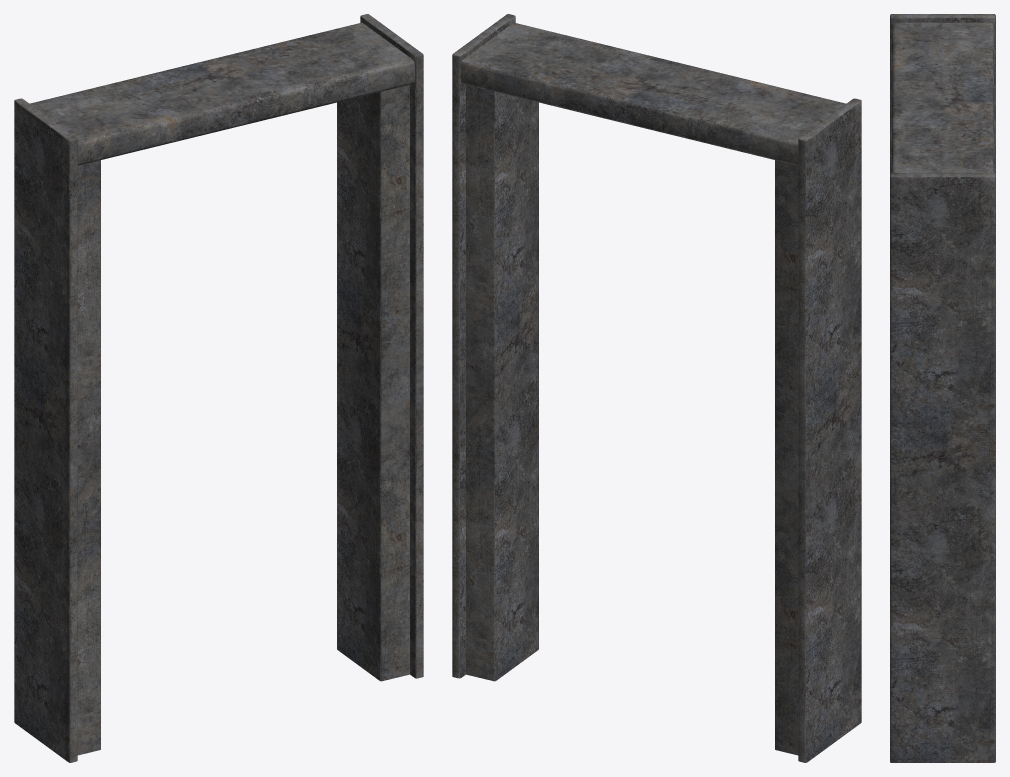
The model's file is WhiteMetalDoorway.FBX.
The picture shows the model from 3 angles, left to right: view 1: azimuth 30°, elevation 25°; view 2: azimuth 150°, elevation 25°; view 3: azimuth 270°, elevation 25°; orthographic projection. The views are drawn at different scales.
Visible parts, largest first — view 1: MetalDoorway; view 2: MetalDoorway; view 3: MetalDoorway.
Boxes of the visible parts, x1,y1,x2,y2 form: MetalDoorway: [14, 14, 423, 762]; MetalDoorway: [452, 14, 861, 762]; MetalDoorway: [890, 14, 995, 762].
Bounding box in the file's own units: 41 × 68.75 × 11.23.
